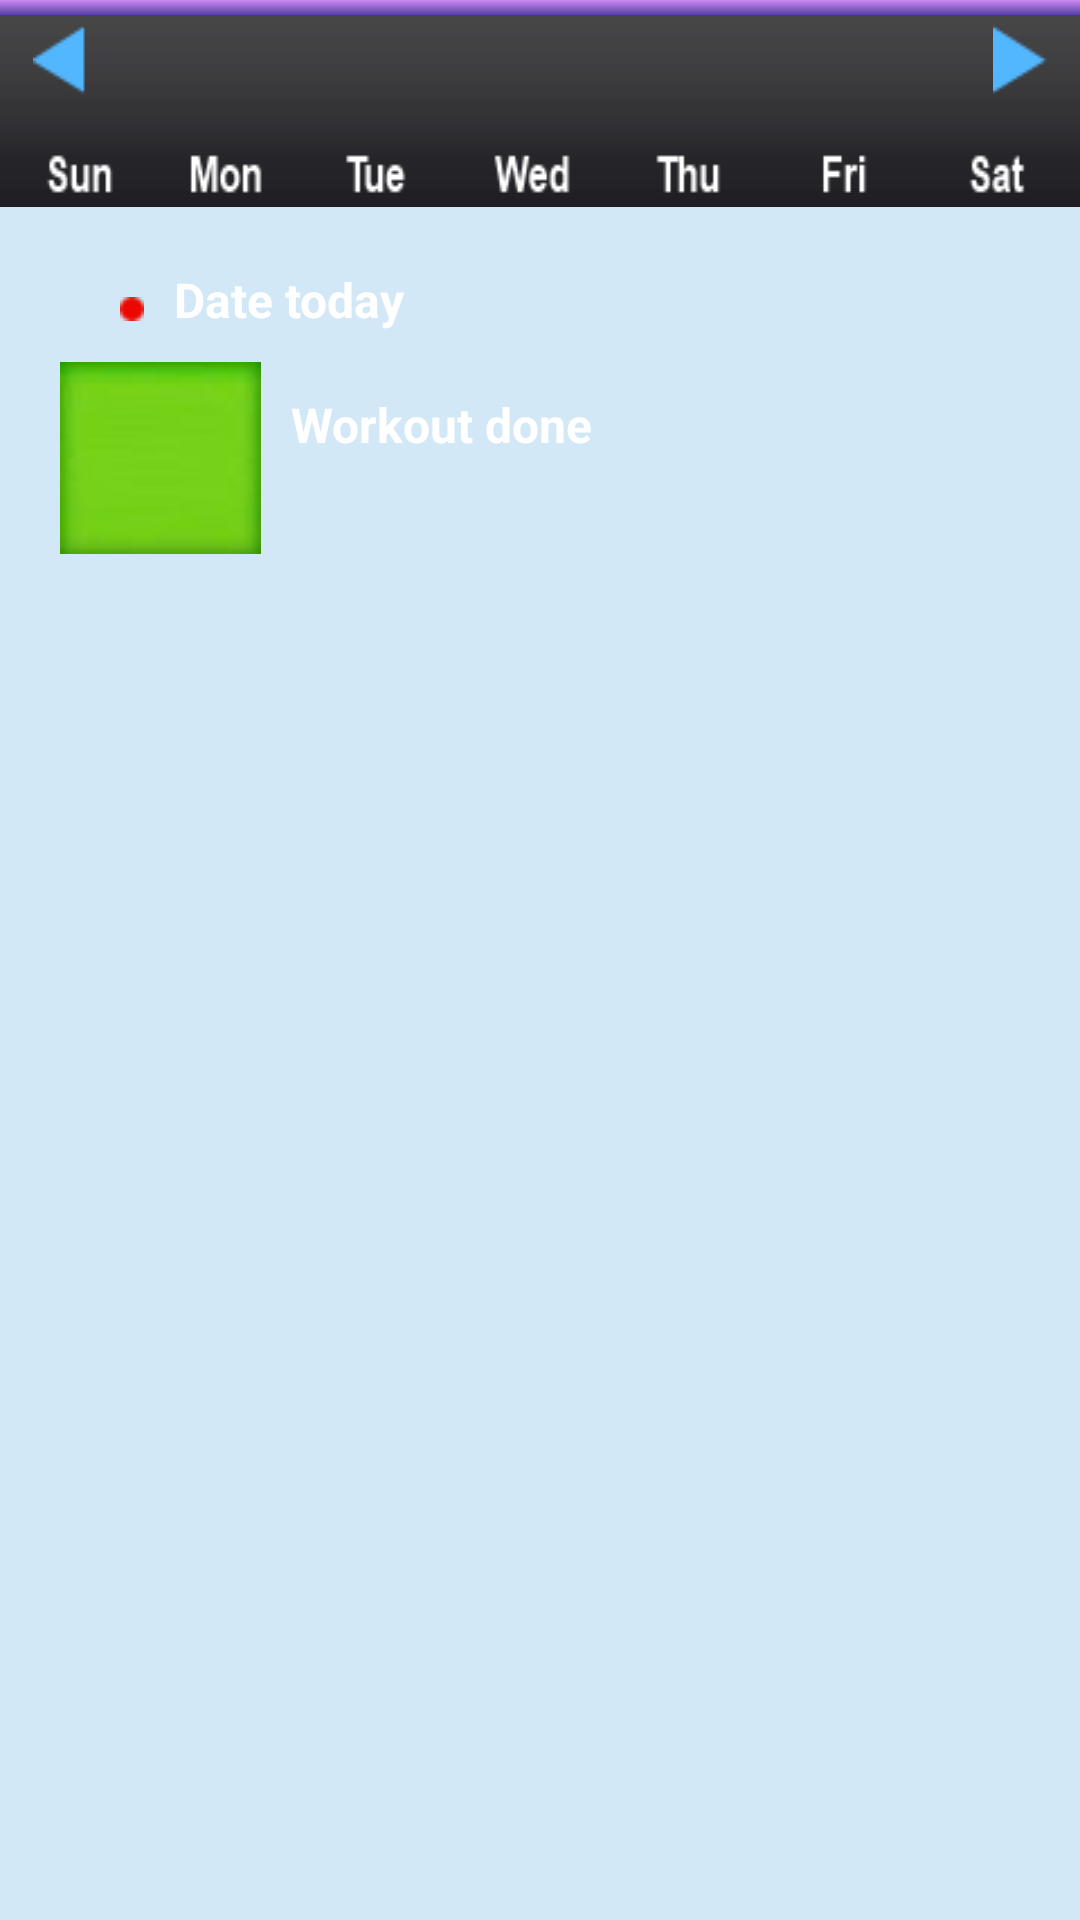

Locate icon controls on the screen. Image size 1080×1920, boxes as (x1, y1, x2, y2).
dot: (120, 297, 144, 321)
